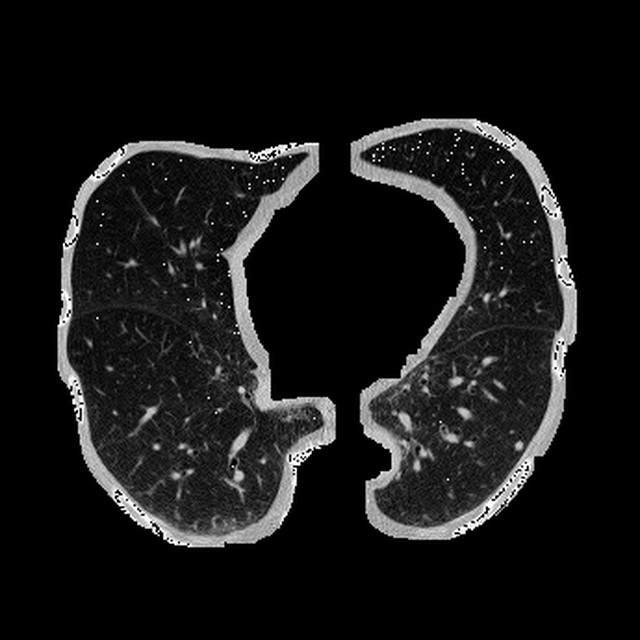PN: (514, 442, 521, 449)
